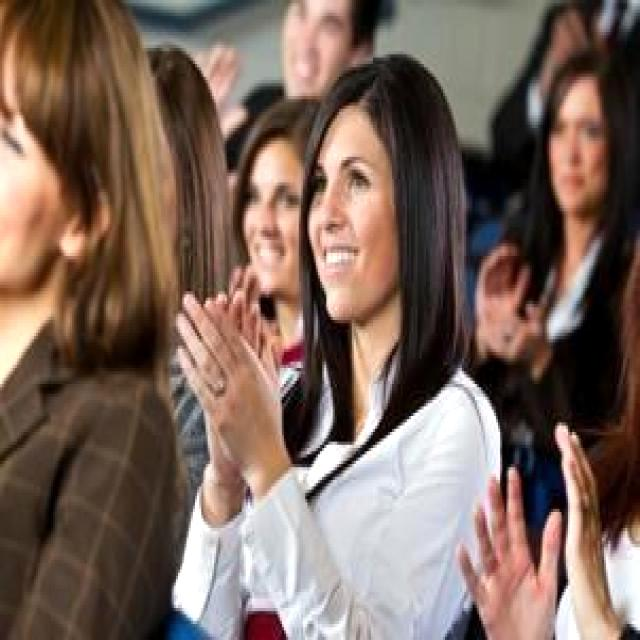no_head_wear: (3, 0, 179, 380), (305, 54, 464, 374), (151, 50, 239, 288), (233, 96, 318, 256), (545, 45, 634, 179), (341, 0, 387, 55)
person: (162, 54, 500, 637), (0, 0, 182, 637), (459, 243, 638, 637), (476, 45, 638, 448), (461, 0, 638, 319), (147, 45, 248, 535), (194, 0, 393, 178), (233, 99, 316, 365)
